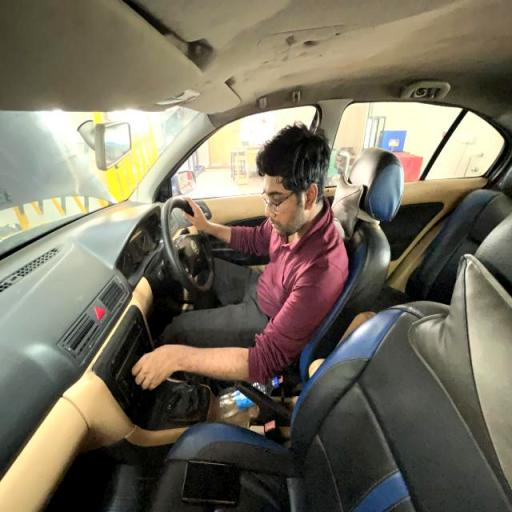operatingradio: (110, 126, 352, 400)
